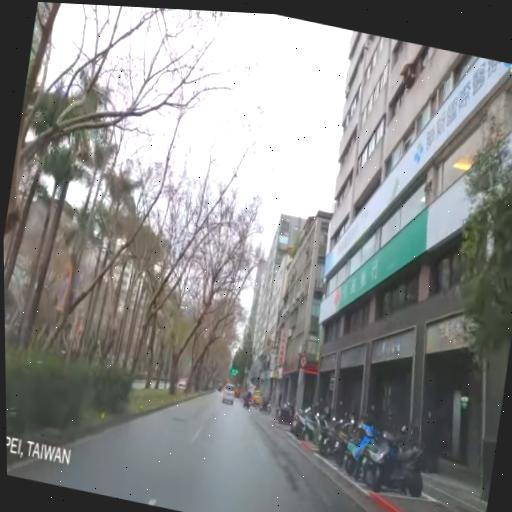Car: (220, 380, 235, 406), (250, 385, 266, 407), (177, 376, 188, 387)
